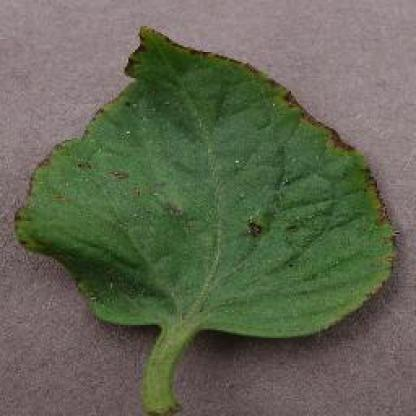bad leaf: (8, 14, 401, 404)
